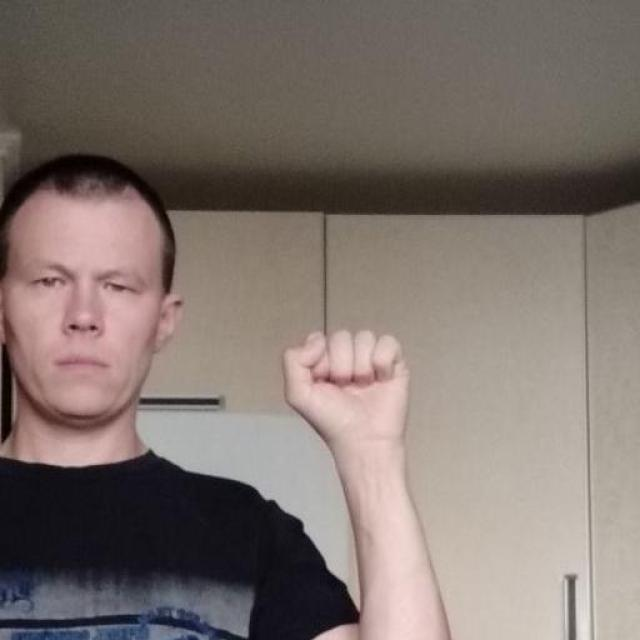hand: (280, 328, 411, 447)
